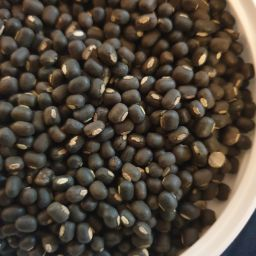Black Gram(urad daal): (2, 2, 252, 256), (96, 6, 206, 250), (21, 17, 84, 253)
